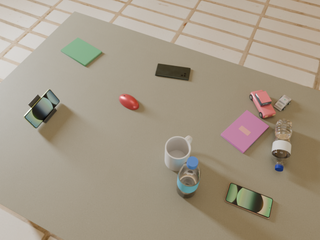book: (221, 110, 269, 153), (61, 38, 102, 66)
bottle: (272, 119, 293, 171), (177, 157, 201, 198)
cup: (165, 136, 192, 171)
mouse: (119, 94, 139, 110)
phone: (225, 183, 273, 218), (24, 89, 59, 128), (155, 64, 190, 80)
toy_car: (250, 90, 276, 118), (274, 95, 291, 111)
